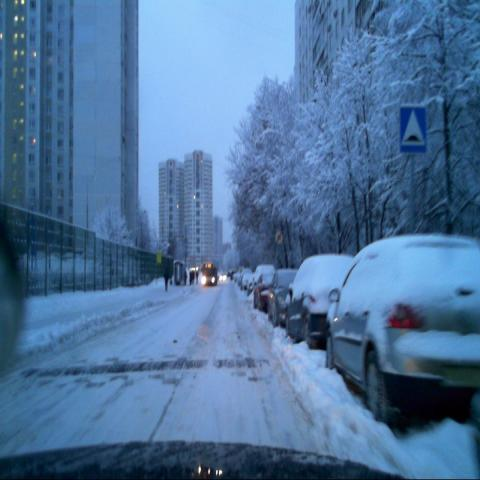5_20: (399, 103, 427, 155)
